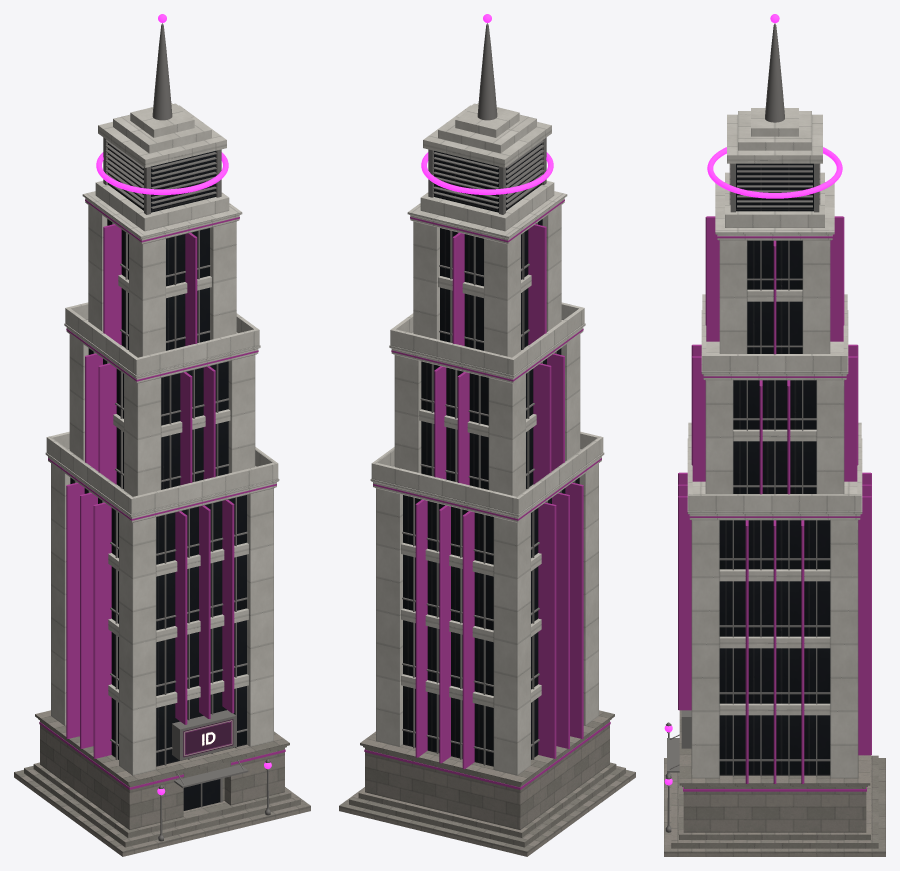
File: s21-incubator-dao.glb
3 views of the same model, side by side, from view 1: azimuth 30°, elevation 25°; view 2: azimuth 150°, elevation 25°; view 3: azimuth 270°, elevation 25° (orthographic). The views are drawn at different scales.
Visible parts, largest first — view 1: Landmark · Incubator DAO (Series 21); view 2: Landmark · Incubator DAO (Series 21); view 3: Landmark · Incubator DAO (Series 21).
Part boxes in pixels (x1=…): Landmark · Incubator DAO (Series 21): x1=14, y1=14, x2=310, y2=856; Landmark · Incubator DAO (Series 21): x1=339, y1=14, x2=635, y2=856; Landmark · Incubator DAO (Series 21): x1=664, y1=14, x2=885, y2=856.
Size of the model in its own units: 12 by 47.5 by 12.
7 materials, 4 textured.
